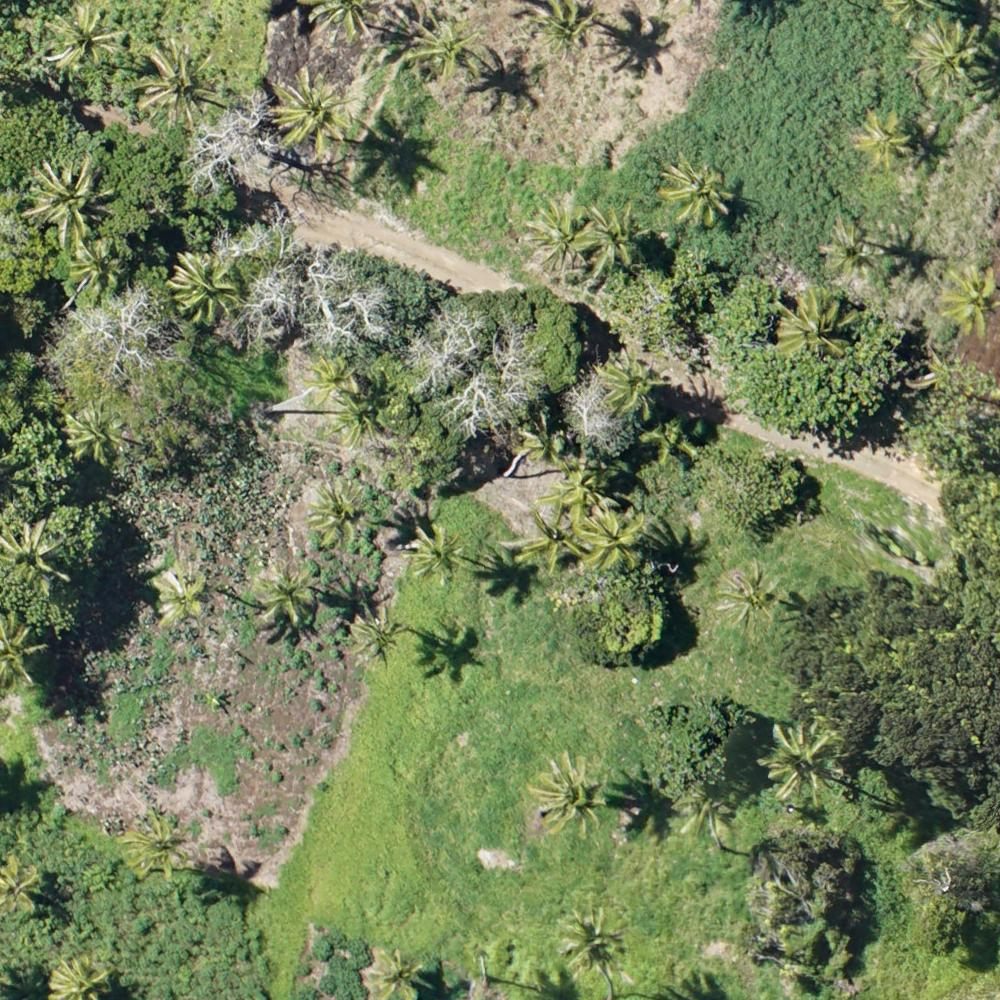Palm: (29, 161, 112, 244), (268, 74, 352, 156), (141, 48, 226, 129), (764, 717, 842, 802), (533, 755, 608, 839), (408, 16, 487, 92), (524, 197, 600, 276), (913, 15, 985, 96), (778, 289, 859, 356), (170, 249, 242, 323), (3, 519, 72, 594), (552, 908, 628, 976), (45, 5, 119, 74), (512, 505, 590, 569), (721, 562, 789, 634), (662, 159, 736, 225), (936, 264, 1000, 337), (596, 351, 659, 422), (308, 479, 372, 548), (122, 813, 188, 879), (581, 506, 649, 569), (149, 566, 214, 630), (853, 111, 920, 173), (256, 568, 320, 632), (403, 522, 466, 586), (820, 217, 882, 280), (529, 1, 595, 59), (347, 595, 402, 663), (329, 393, 391, 452), (595, 206, 648, 271), (66, 242, 123, 298), (61, 411, 119, 466), (366, 952, 427, 1000), (306, 355, 355, 397)
